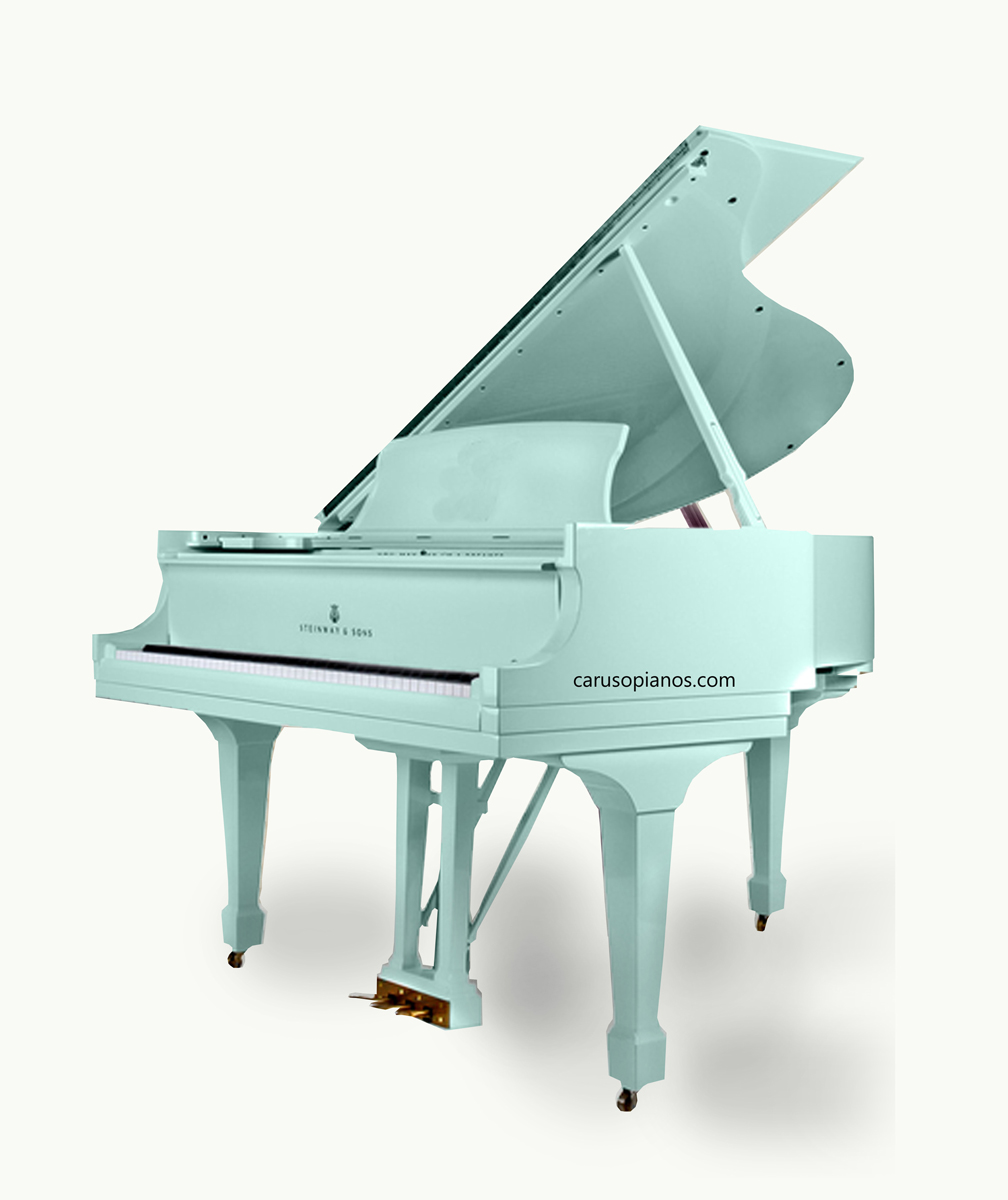GrandPiano: (76, 267, 969, 954)
